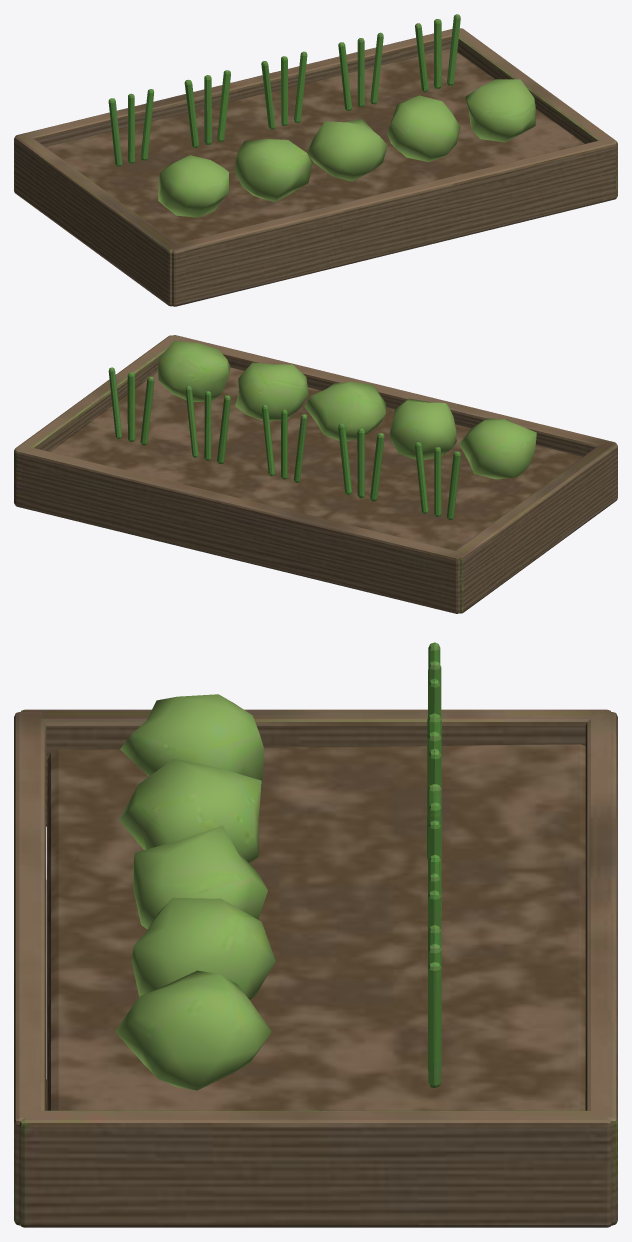
Rendered from garden.glb.
3 views of the same model, one above another, from view 1: azimuth 30°, elevation 25°; view 2: azimuth 150°, elevation 25°; view 3: azimuth 270°, elevation 25° (orthographic). The views are drawn at different scales.
Parts seen in each view (by area): view 1: garden; view 2: garden; view 3: garden.
Boxes of the visible parts, x1,y1,x2,y2 form: garden: (14, 14, 617, 306); garden: (14, 335, 617, 613); garden: (14, 642, 617, 1227).
Bounding box in the file's own units: 1.82 × 0.4559 × 1.12.
Materials: 1 (1 with a texture image).
